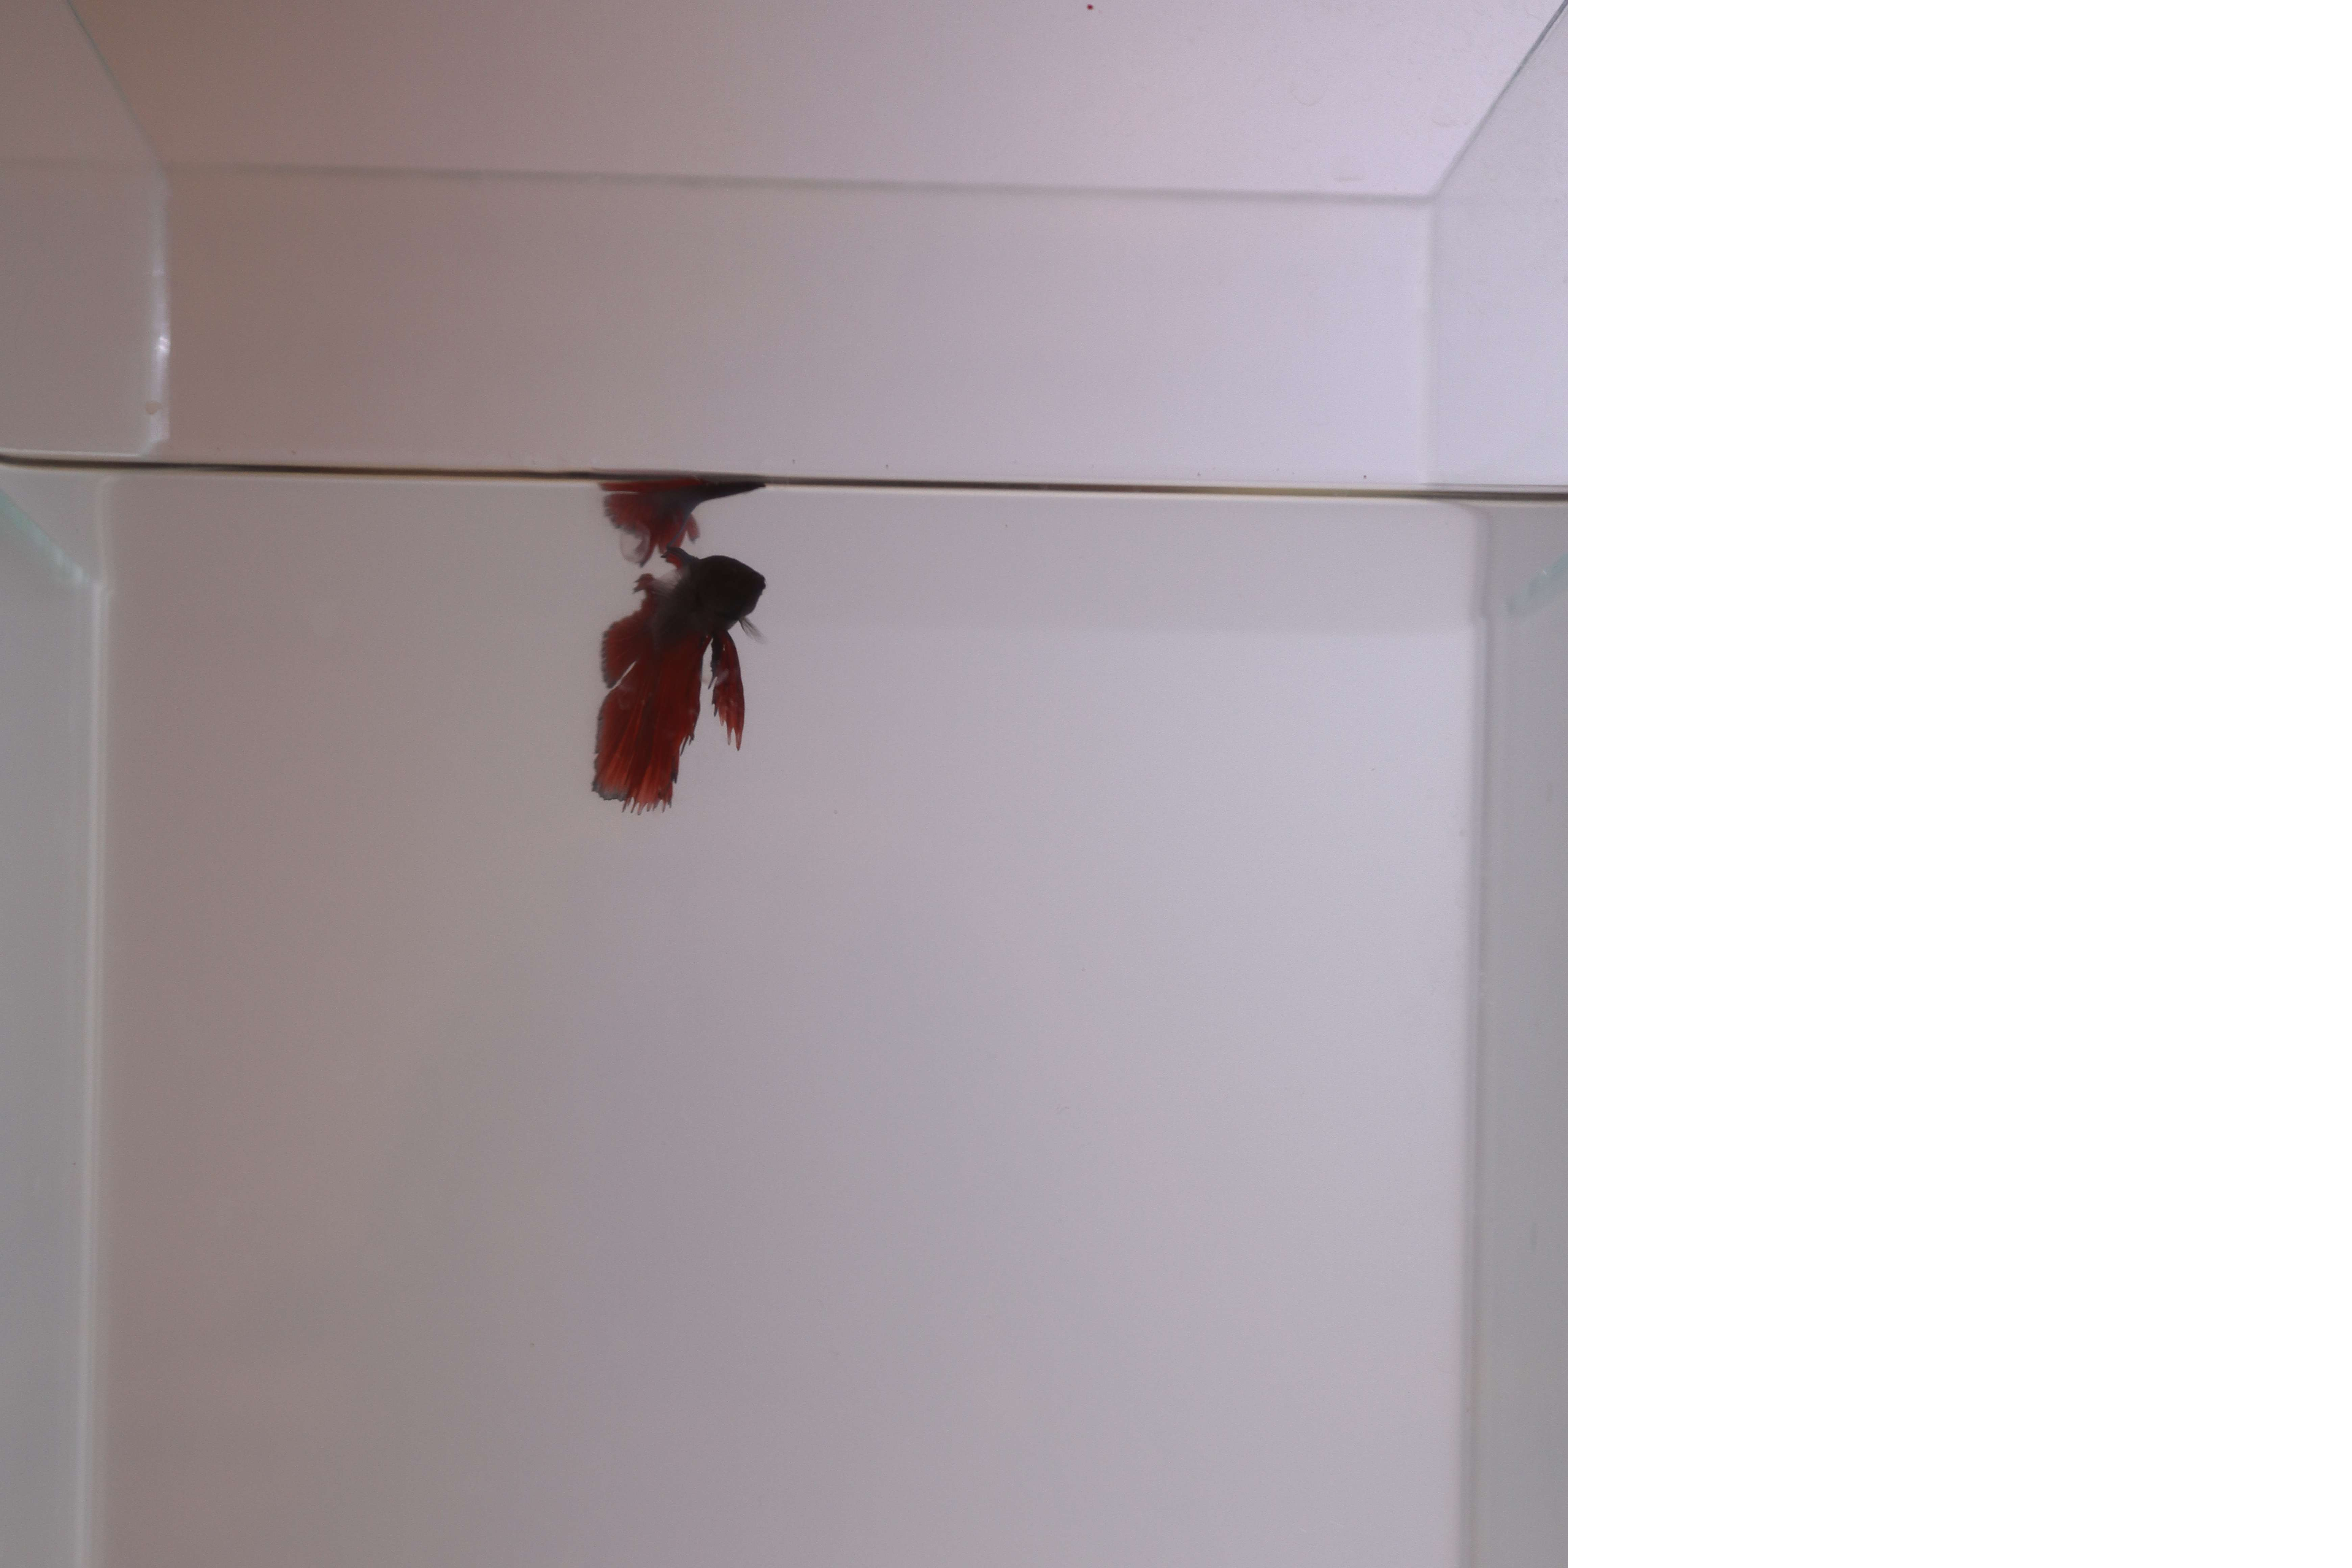fish: (553, 549, 807, 814)
